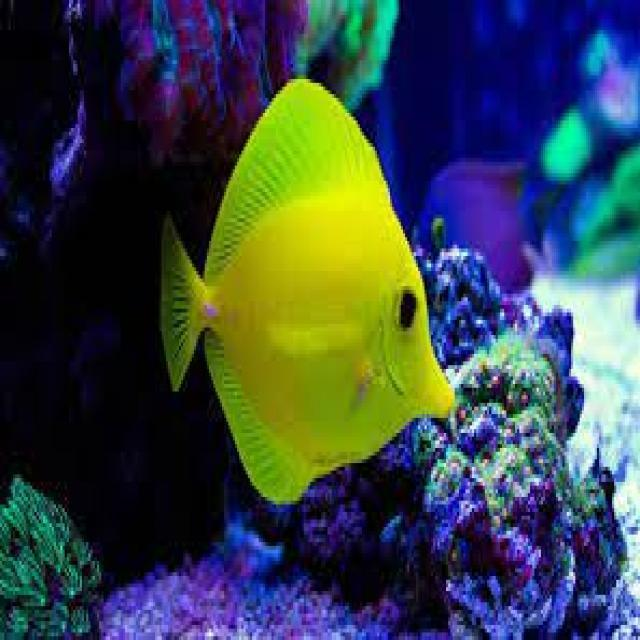TangFish: (150, 72, 460, 508)
